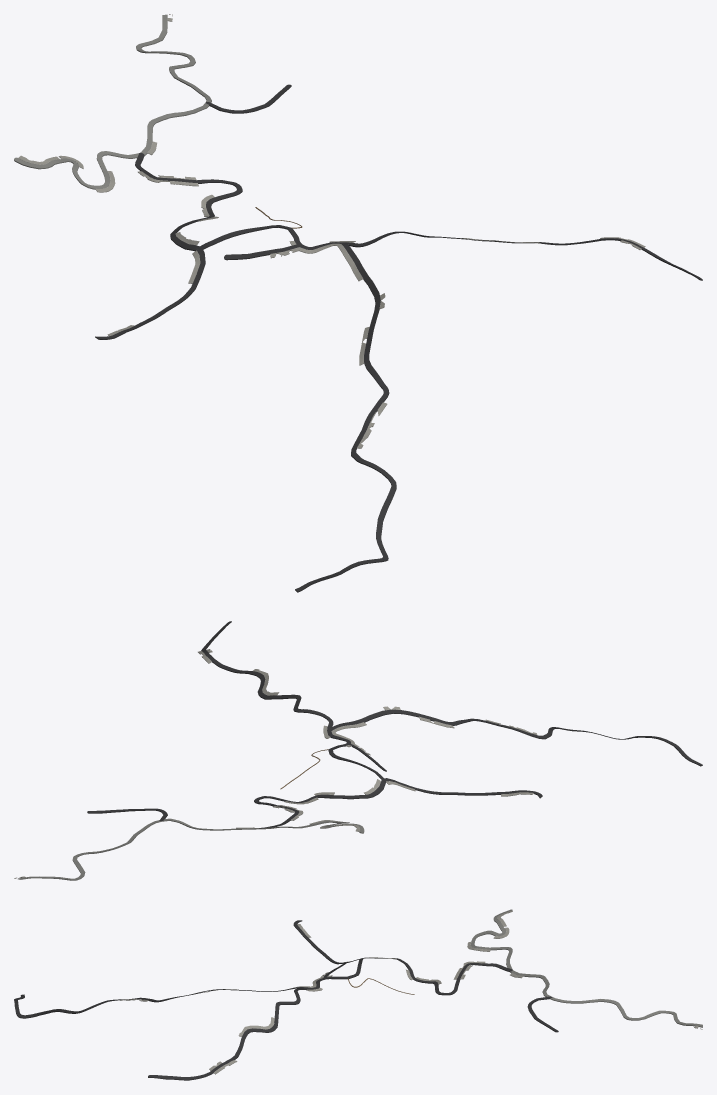
The picture shows the model from 3 angles, top to bottom: view 1: azimuth 30°, elevation 25°; view 2: azimuth 150°, elevation 25°; view 3: azimuth 270°, elevation 25°; orthographic projection. The views are drawn at different scales.
Size of the model in its own units: 664 by 203 by 1148.
